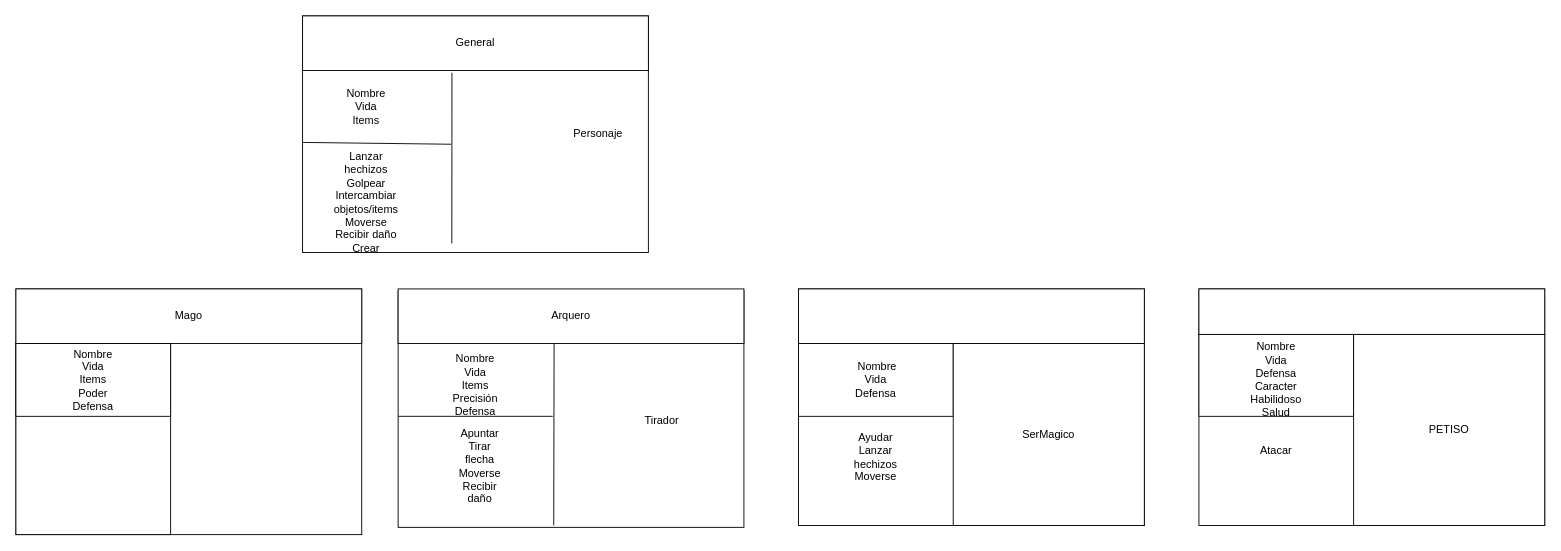
Some shapes in this 1561 by 551 pixel diagram are drawn without their labels. Here are the shapes that lost their labels. From the top down, the box of each, then its label:
(798, 288, 1144, 344): Elfos
(1198, 288, 1545, 334): Enanos
(15, 288, 362, 535): Hechizos
(15, 343, 171, 535): Ataque Moverse Denderse Crear
